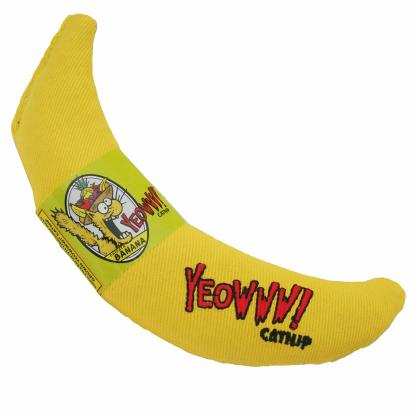banana: (8, 12, 408, 375)
